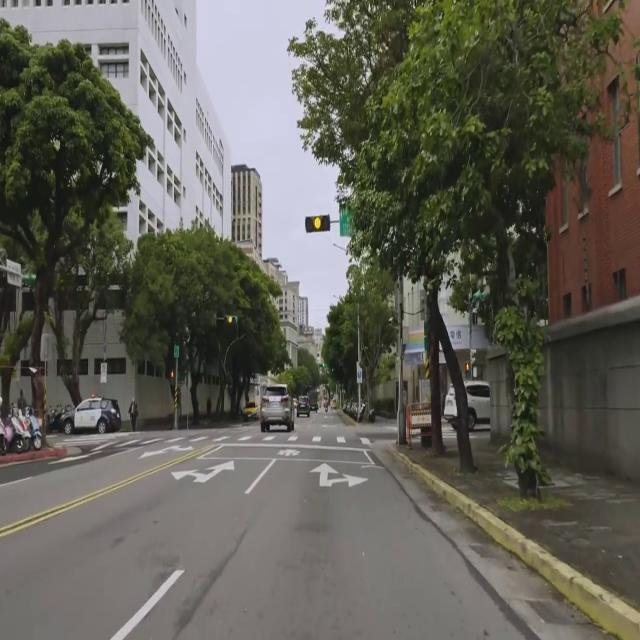yellow light: (304, 215, 332, 232), (223, 314, 239, 327)
